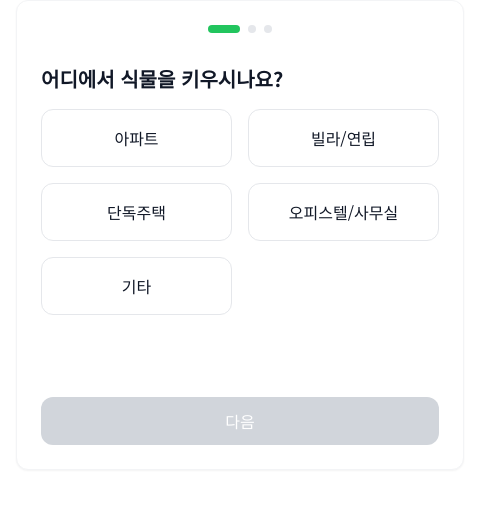
SetupForm › should go back to previous step when "Prev" button is clicked
Note: Move to Step 2
Click the button "아파트" at (136, 138), box [41,109,232,167]
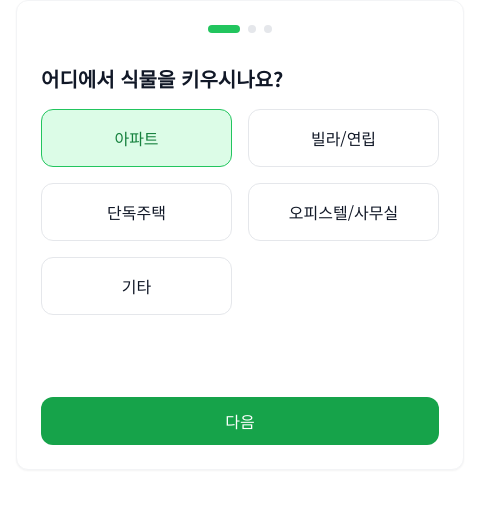
Click the button "다음" at (240, 421), box [41,397,439,445]
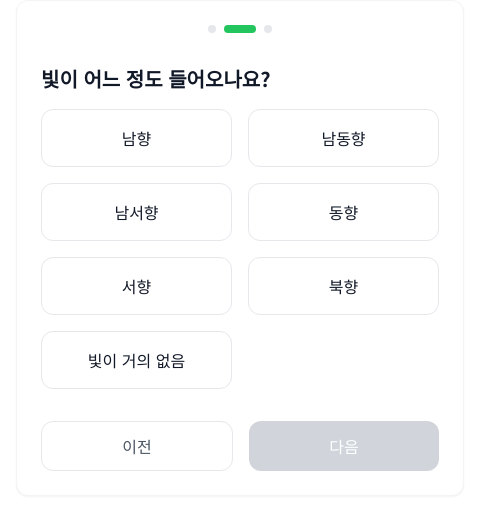
Expected: the heading "빛이 어느 정도 들어오나요?" is shown, [41,64,270,93]
Note: Click Previous
Click the button "이전" at (137, 446), box [41,421,233,471]
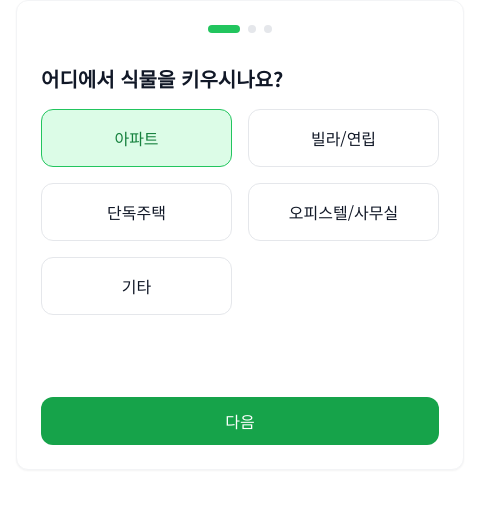
Expected: the heading "어디에서 식물을 키우시나요?" is shown, [41,64,283,93]
